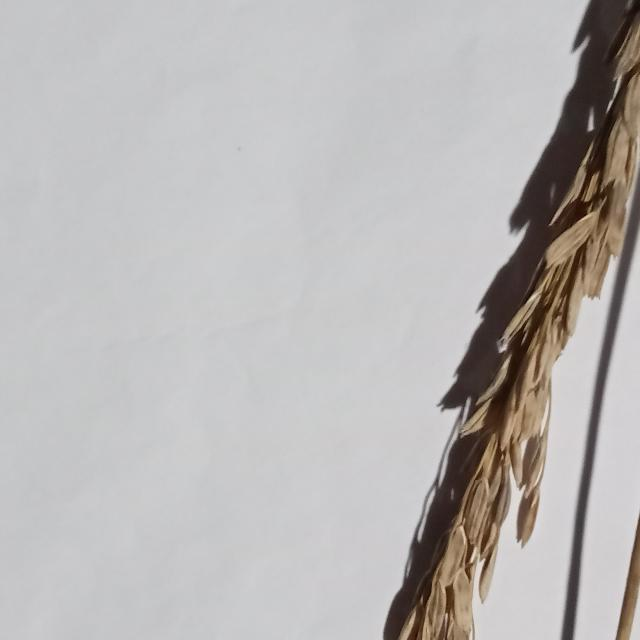Neck_Blast: (368, 14, 640, 637)
